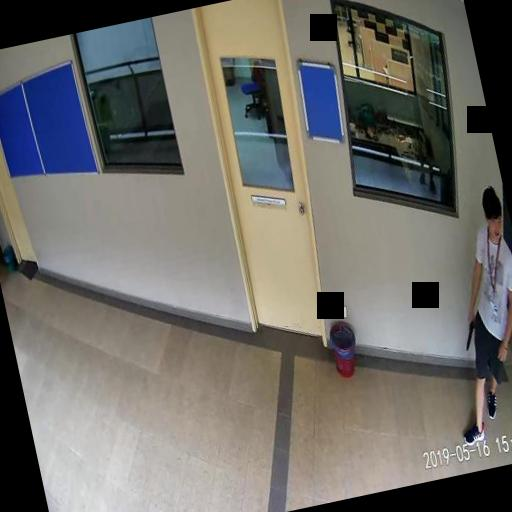Handgun: (458, 312, 478, 348)
